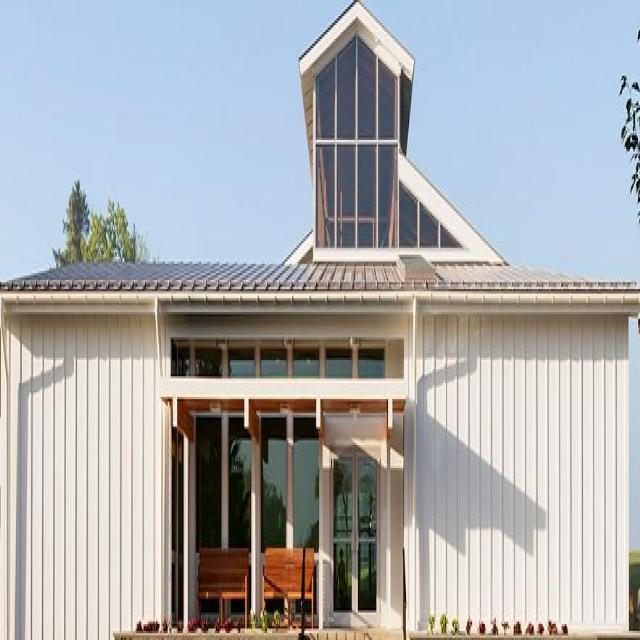door: (332, 453, 382, 630)
plant: (52, 183, 148, 268)
wall: (0, 0, 639, 637)
windows: (172, 344, 382, 626), (314, 38, 463, 250)
